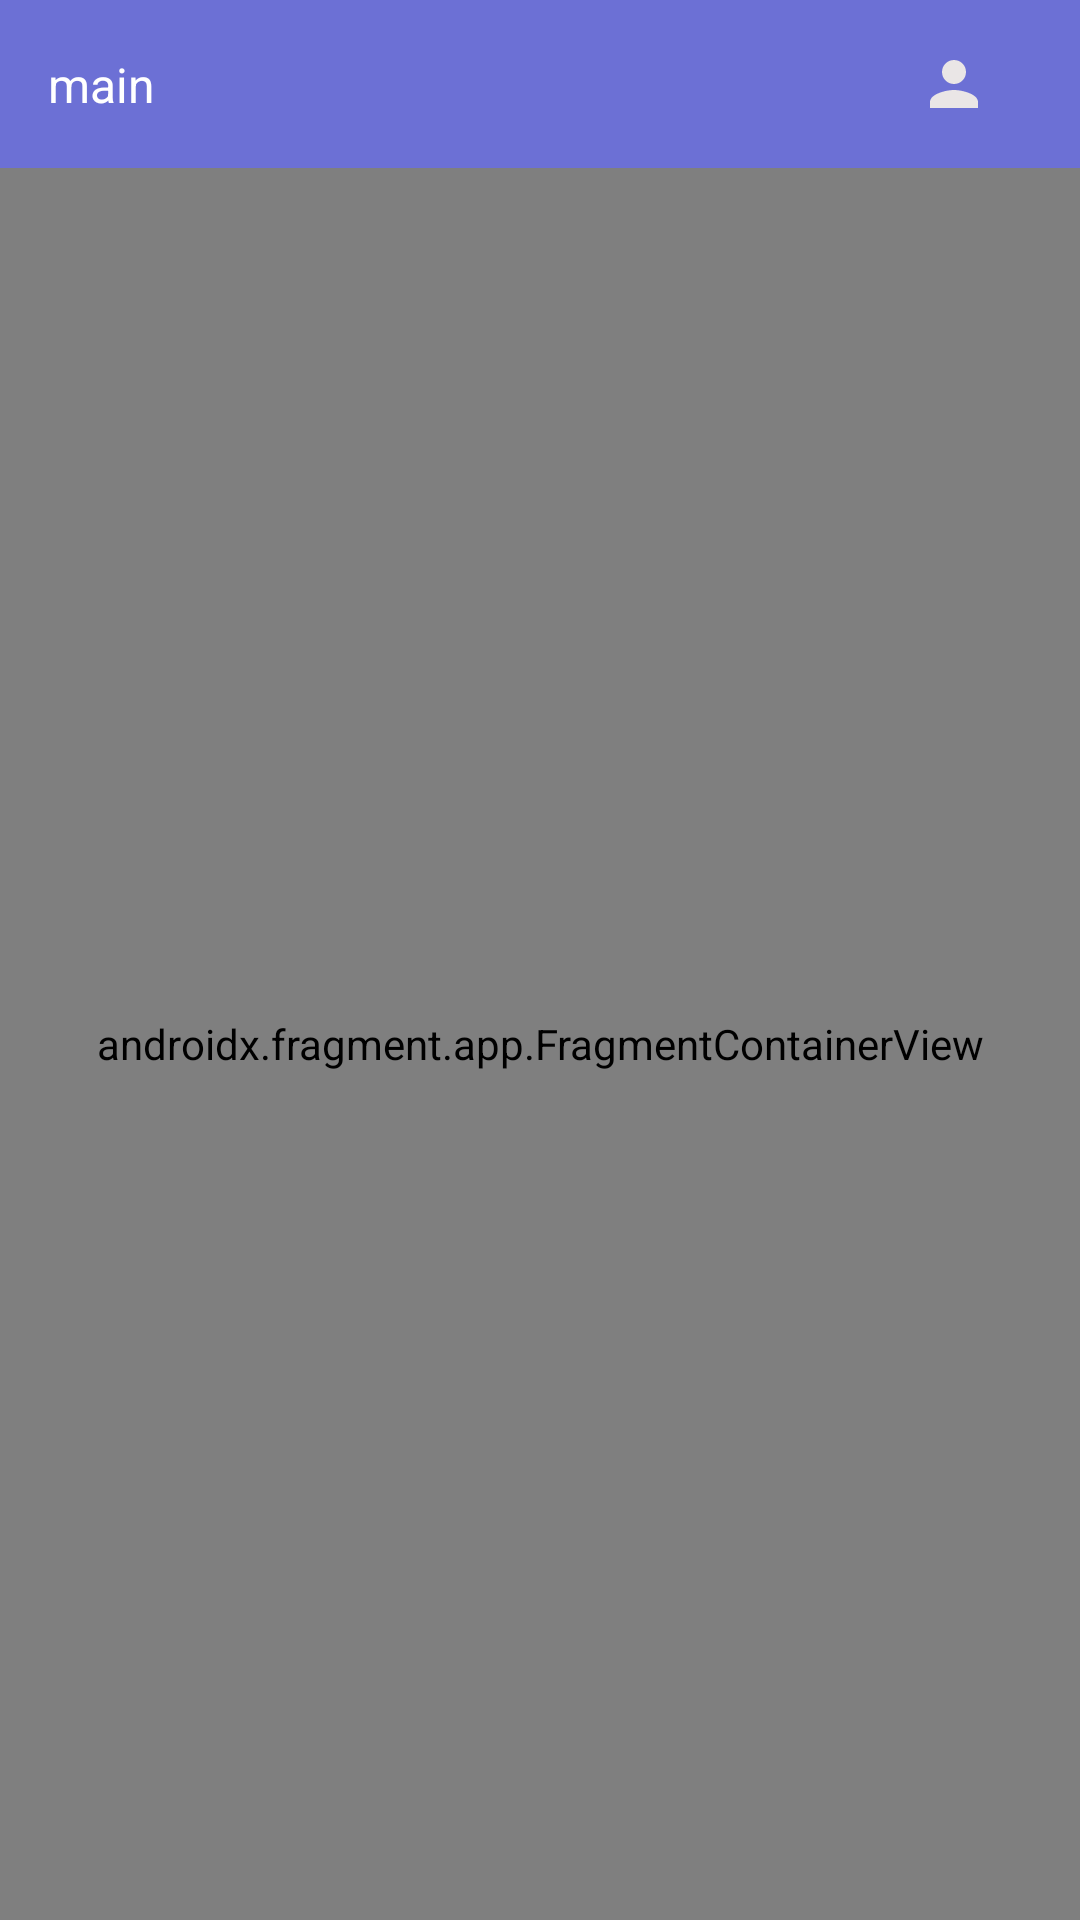

Screen size 1080×1920. Icon name, then its center in pixels as (x,y):
person: (954,84)
